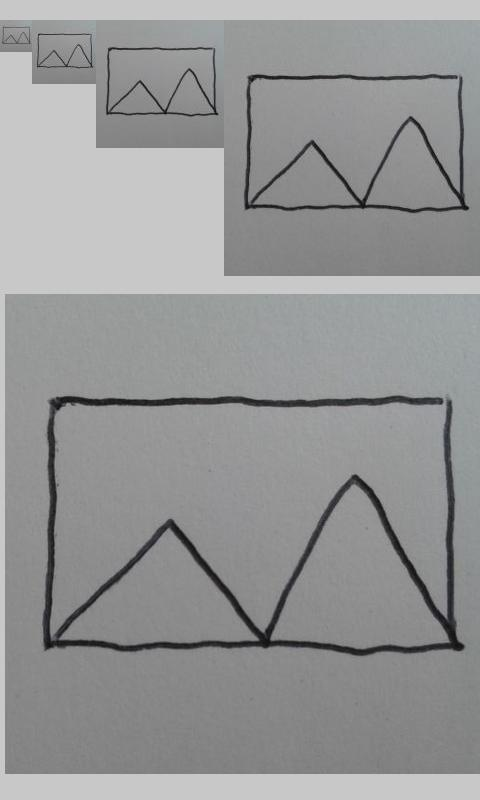image_view: (44, 392, 457, 663), (245, 74, 466, 213), (105, 47, 217, 117), (36, 33, 93, 69), (2, 26, 31, 45)
